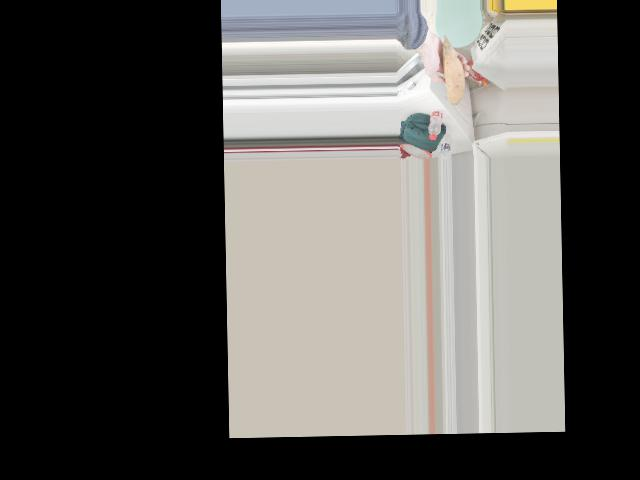sweet_potato: (442, 45, 466, 104)
